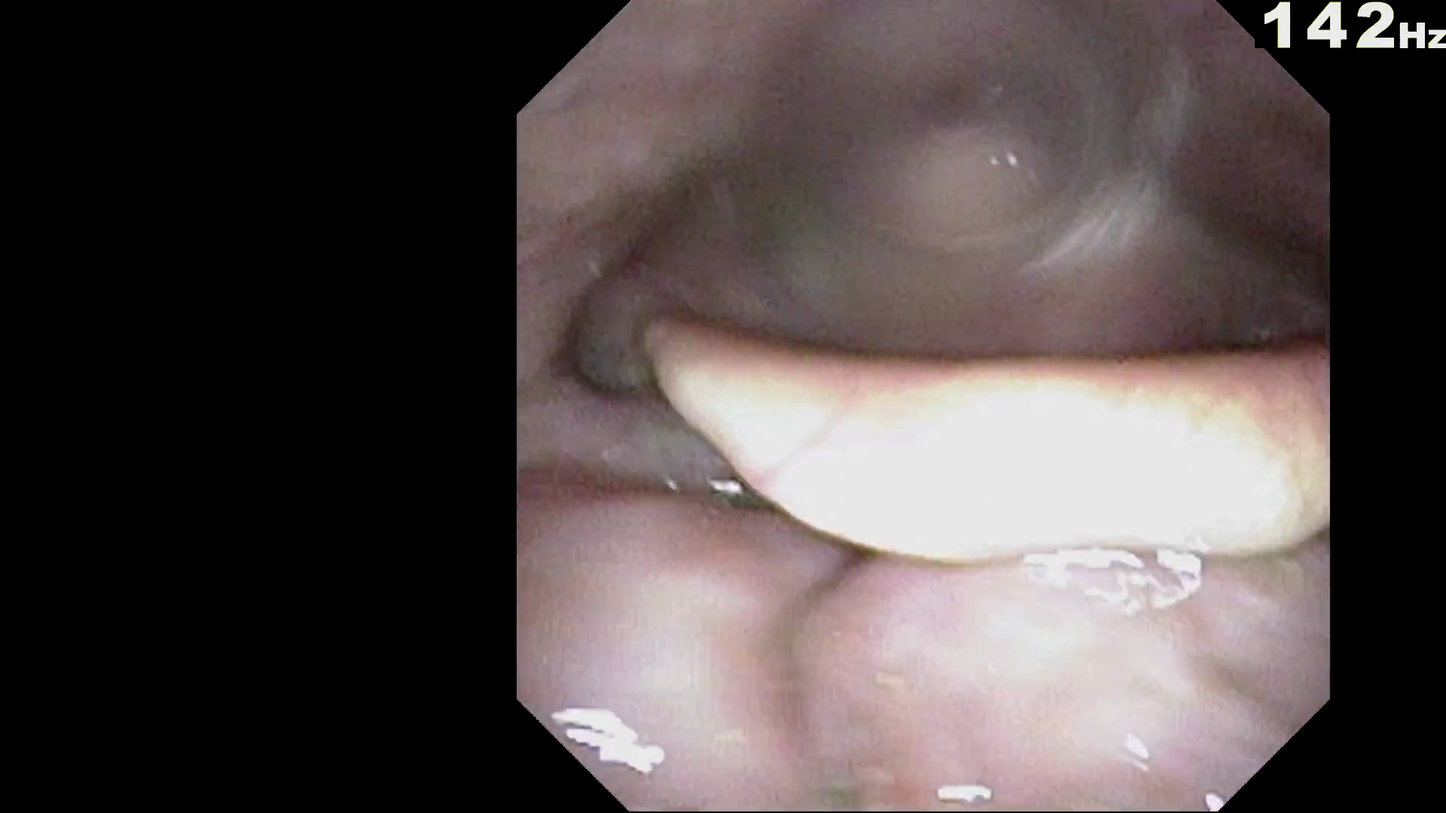epiglottis: (604, 340, 1220, 565)
